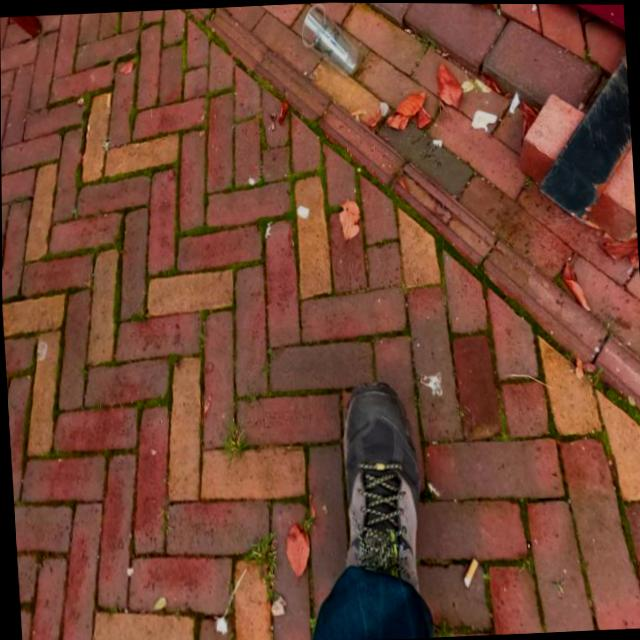Cup: (297, 2, 359, 75)
Paper: (469, 106, 499, 131)
Plastic: (417, 368, 443, 397)
